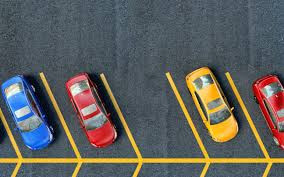Car: (62, 70, 124, 151), (181, 64, 242, 146), (1, 71, 57, 152), (250, 69, 284, 152)
